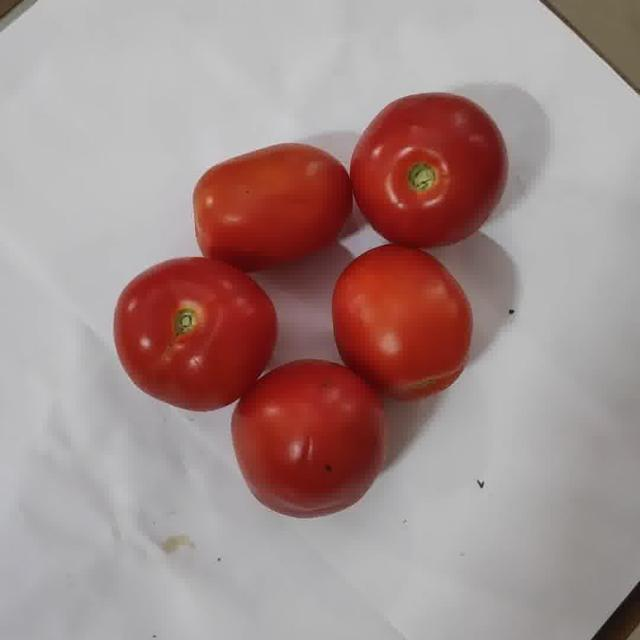Tomato: (114, 257, 276, 411), (350, 93, 506, 248), (231, 360, 383, 516), (332, 245, 471, 399), (193, 143, 351, 270)
